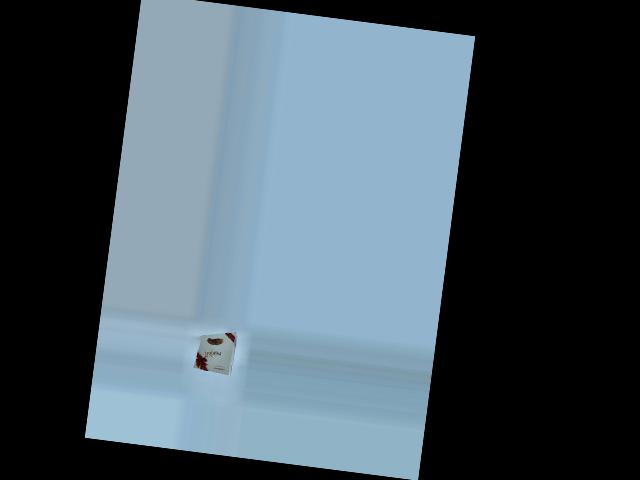chocolate: (192, 325, 246, 375)
